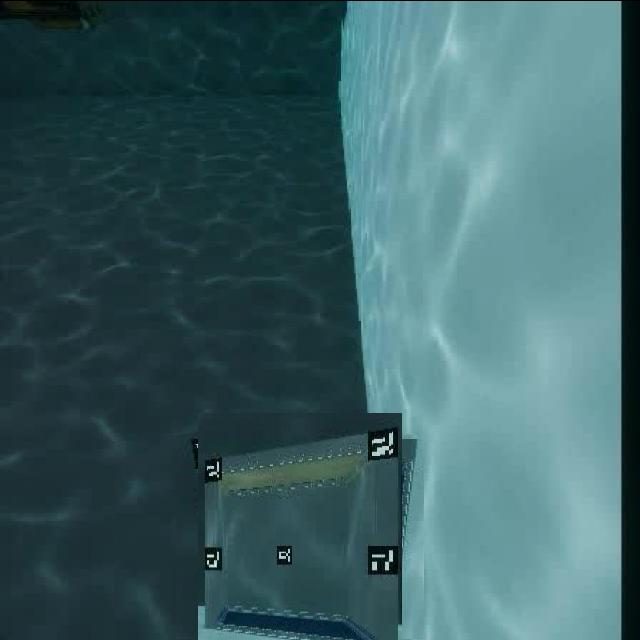Docking Station: (187, 423, 413, 640)
